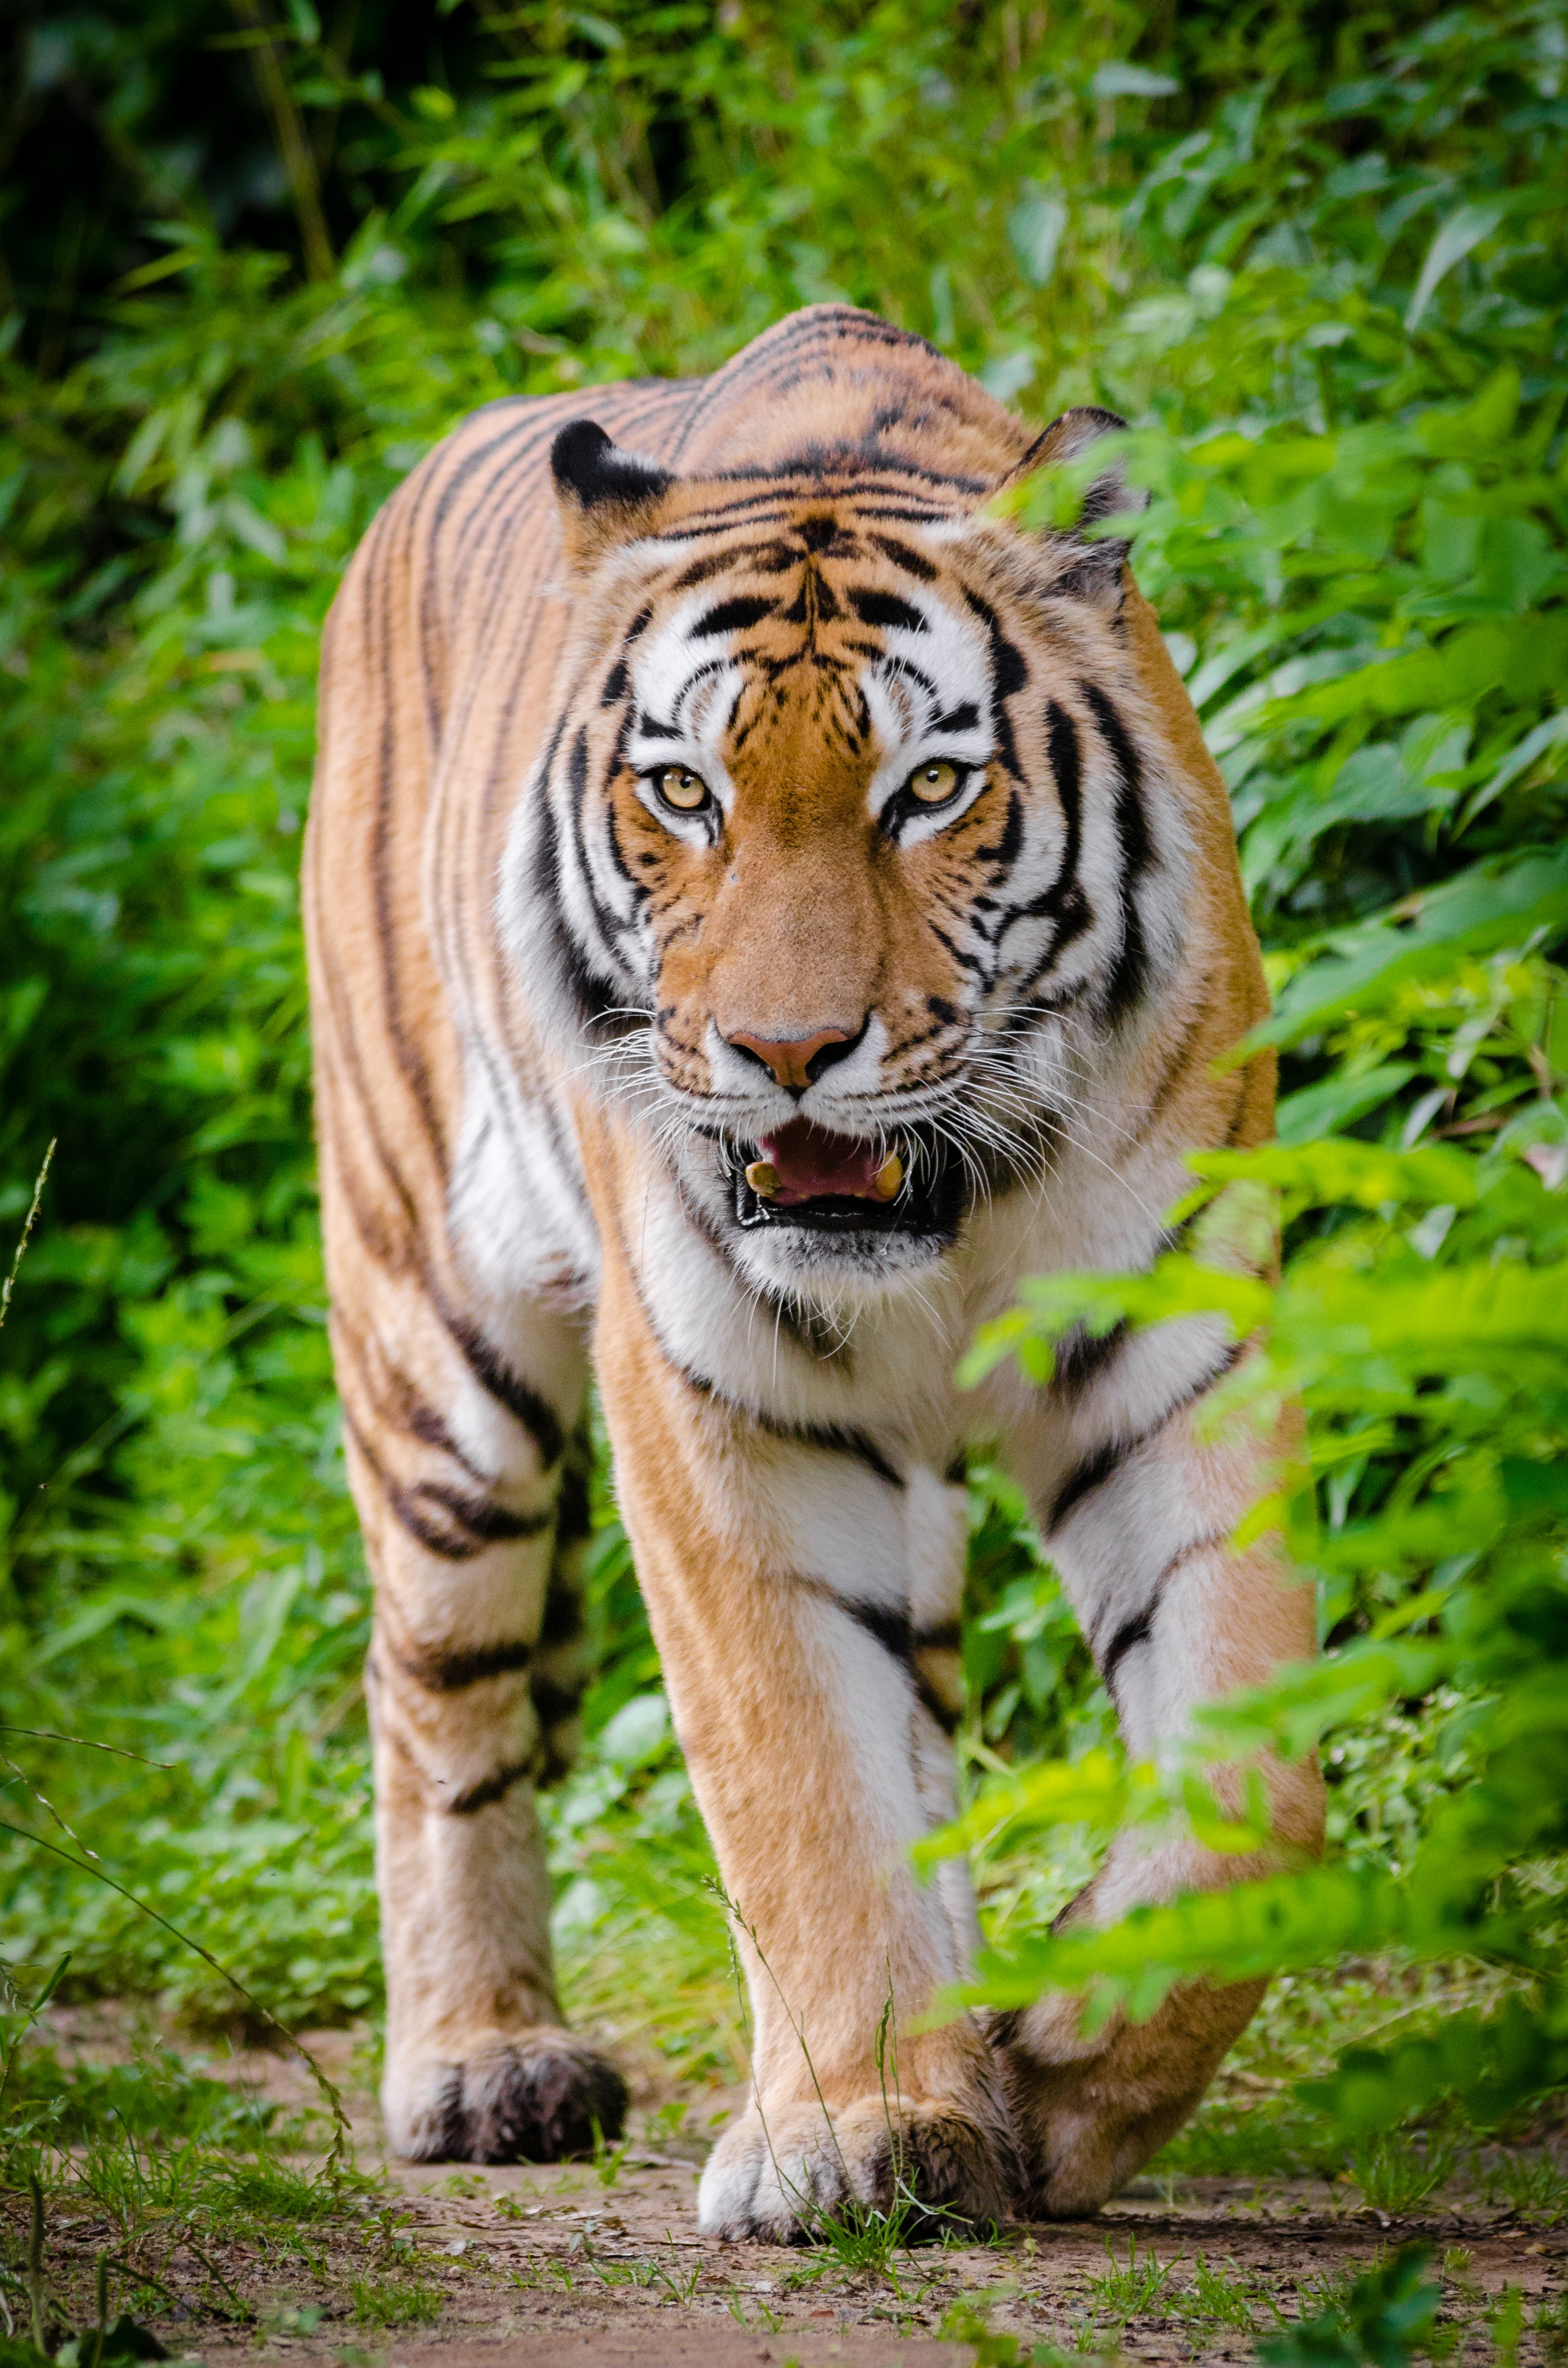tiger: (257, 222, 1451, 2273)
